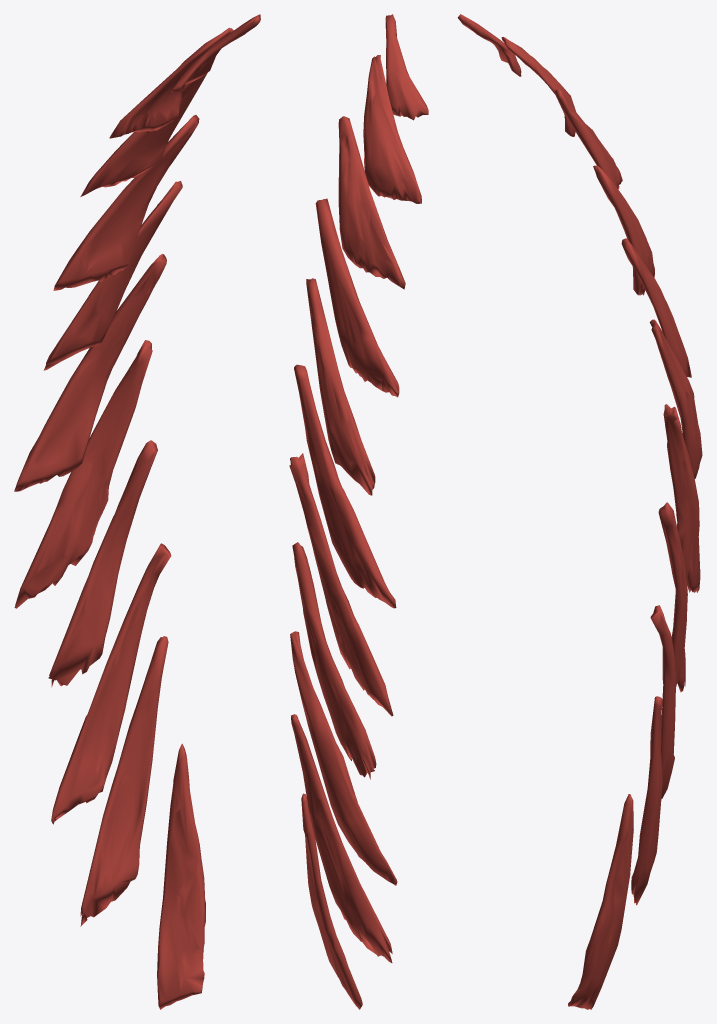
The model's file is musculos-levatores-longi-costarum-r.glb.
3 renders of one model, left to right at view 1: azimuth 30°, elevation 25°; view 2: azimuth 150°, elevation 25°; view 3: azimuth 270°, elevation 25°, orthographic. The views are drawn at different scales.
Parts seen in each view (by area): view 1: Levatores longi costarum.r; view 2: Levatores longi costarum.r; view 3: Levatores longi costarum.r.
Part boxes in pixels (x1,y1,x2,y2): Levatores longi costarum.r: [14, 14, 260, 1009]; Levatores longi costarum.r: [289, 14, 428, 1009]; Levatores longi costarum.r: [457, 14, 702, 1009].
Size of the model in its own units: 0.0472 by 0.3298 by 0.0725.
